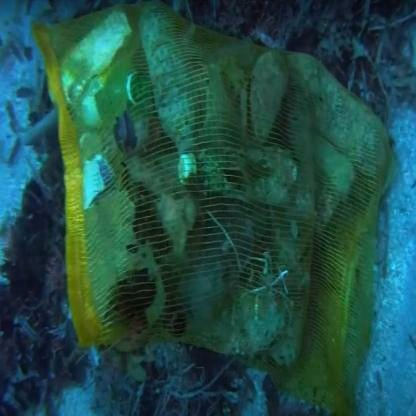pbottle: (80, 45, 246, 256)
